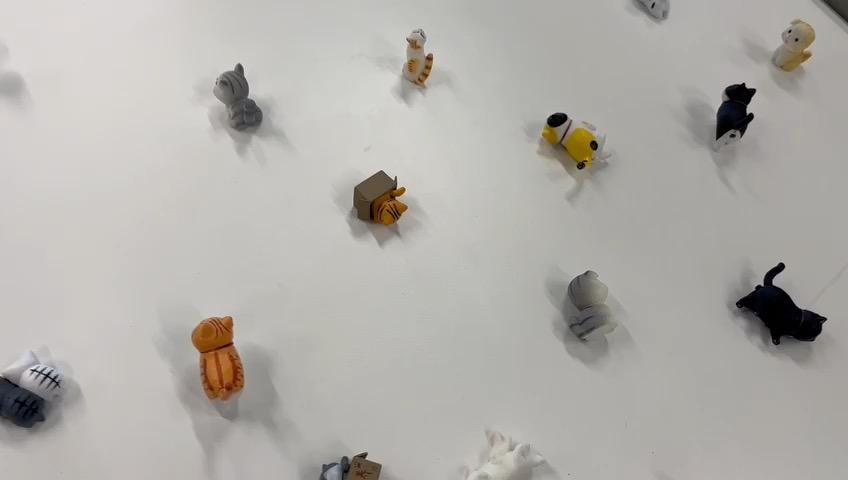pet: (723, 254, 845, 379), (173, 304, 280, 430), (191, 54, 290, 162), (356, 144, 442, 252), (551, 264, 640, 362), (538, 104, 614, 205), (3, 354, 87, 444), (473, 414, 583, 480), (396, 6, 461, 103), (708, 76, 772, 152), (773, 6, 817, 105)
